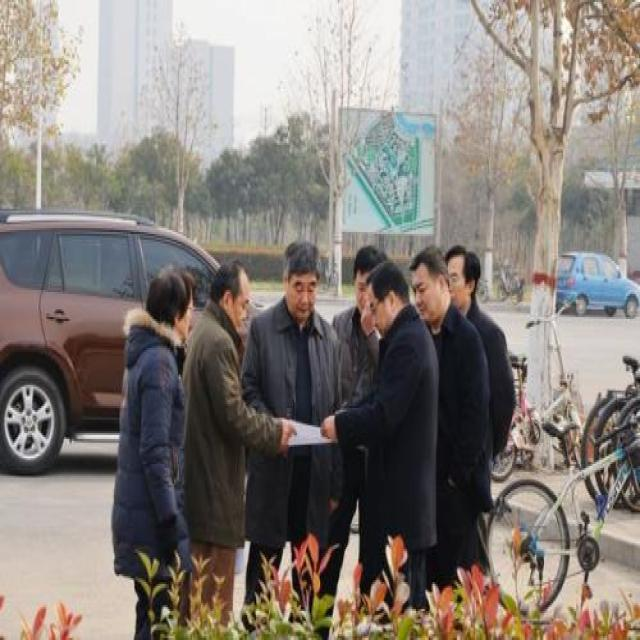head: (144, 265, 194, 348), (280, 240, 322, 327), (364, 256, 406, 340), (408, 247, 449, 327), (211, 255, 252, 331), (351, 242, 385, 326), (447, 246, 481, 315)
